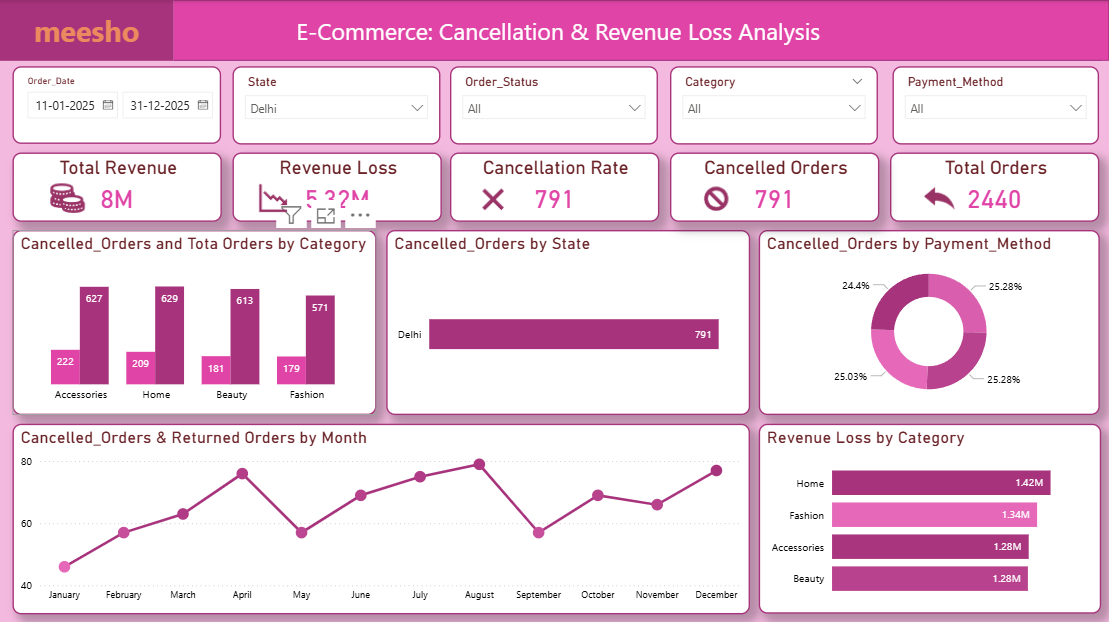

Layout of this report page (visuals, bound fields, positions):
{"tool":"powerbi","page":{"name":"Page 1","canvas":[1280,720],"ordinal":0},"visuals":[{"type":"card","title":"Total Revenue","fields":{"Values":["meesho.Total Revenue"]},"box":[15,176.2,241.2,80],"z":0},{"type":"card","title":"Revenue Loss","fields":{"Values":["meesho.Revenue Loss"]},"box":[268.8,176.2,241.2,80],"z":1000},{"type":"card","title":"Cancellation Rate","fields":{"Values":["meesho.Cancelled_Orders"]},"box":[520,176.2,241.2,80],"z":2000},{"type":"card","title":"Total Orders","fields":{"Values":["meesho.Tota Orders"]},"box":[1027.5,176.2,241.2,80],"z":3000},{"type":"slicer","fields":{"Values":["meesho.State"]},"box":[268.8,76.2,240,90],"z":4000},{"type":"slicer","fields":{"Values":["meesho.Order_Date"]},"box":[14.4,76.5,240.9,89.5],"z":5000},{"type":"slicer","fields":{"Values":["meesho.Order_Status"]},"box":[520,76.2,240,90],"z":6000},{"type":"slicer","fields":{"Values":["meesho.Payment_Method"]},"box":[1030,76.2,238.8,90],"z":7000},{"type":"clusteredColumnChart","fields":{"Category":["meesho.Category"],"Y":["meesho.Cancelled_Orders","meesho.Tota Orders"]},"box":[14.4,265.5,420,213.5],"z":8000},{"type":"clusteredBarChart","fields":{"Category":["meesho.State"],"Y":["meesho.Cancelled_Orders"]},"box":[445.2,265.4,419.8,213.5],"z":9000},{"type":"lineChart","title":"Cancelled_Orders & Returned Orders by Month","fields":{"Category":["meesho.Order_Date.Variation.Date Hierarchy.Month"],"Y":["meesho.Cancelled_Orders","meesho.Returned Orders"]},"box":[13.8,488.8,851.2,220],"z":10000},{"type":"donutChart","fields":{"Category":["meesho.Payment_Method"],"Y":["meesho.Cancelled_Orders"]},"box":[875.9,265.4,393.3,213.5],"z":11000},{"type":"clusteredBarChart","fields":{"Category":["meesho.Category"],"Y":["meesho.Revenue Loss"]},"box":[875.8,489.1,395.3,219.3],"z":12000},{"type":"card","title":"Cancelled Orders","fields":{"Values":["meesho.Cancelled_Orders"]},"box":[773.8,176.2,241.2,80],"z":13000},{"type":"slicer","fields":{"Values":["meesho.Category"]},"box":[773.8,76.2,240,90],"z":14000},{"type":"shape","box":[0,0,1271.2,70],"z":15000},{"type":"shape","box":[8.8,0,1271.2,70],"z":16000},{"type":"shape","box":[0,0,200,70],"z":17000},{"type":"actionButton","box":[50.5,202,64.9,53.4],"z":18000},{"type":"actionButton","box":[1059,202,50.5,53.4],"z":19000},{"type":"actionButton","box":[548.2,209.2,49.1,41.8],"z":20000},{"type":"actionButton","box":[288.6,202,99.6,53.4],"z":21000},{"type":"actionButton","box":[805.1,207.8,46.2,43.3],"z":22000}]}

Visuals, with their boxes in screenshot pixels (x1, y1, x2, y2), scaled from the page's 1280x720 canvas onto the 1109x622 screenshot:
"Total Revenue" card: x1=13 y1=152 x2=222 y2=221
"Revenue Loss" card: x1=233 y1=152 x2=442 y2=221
"Cancellation Rate" card: x1=451 y1=152 x2=660 y2=221
"Total Orders" card: x1=890 y1=152 x2=1099 y2=221
slicer - meesho.State: x1=233 y1=66 x2=441 y2=144
slicer - meesho.Order_Date: x1=12 y1=66 x2=221 y2=143
slicer - meesho.Order_Status: x1=451 y1=66 x2=658 y2=144
slicer - meesho.Payment_Method: x1=892 y1=66 x2=1099 y2=144
clusteredColumnChart - meesho.Category x meesho.Cancelled_Orders: x1=12 y1=229 x2=376 y2=414
clusteredBarChart - meesho.State x meesho.Cancelled_Orders: x1=386 y1=229 x2=749 y2=414
"Cancelled_Orders & Returned Orders by Month" lineChart: x1=12 y1=422 x2=749 y2=612
donutChart - meesho.Payment_Method x meesho.Cancelled_Orders: x1=759 y1=229 x2=1100 y2=414
clusteredBarChart - meesho.Category x meesho.Revenue Loss: x1=759 y1=423 x2=1101 y2=612
"Cancelled Orders" card: x1=670 y1=152 x2=879 y2=221
slicer - meesho.Category: x1=670 y1=66 x2=878 y2=144
shape: x1=0 y1=0 x2=1101 y2=60
shape: x1=8 y1=0 x2=1108 y2=60
shape: x1=0 y1=0 x2=173 y2=60
actionButton: x1=44 y1=175 x2=100 y2=221
actionButton: x1=918 y1=175 x2=961 y2=221
actionButton: x1=475 y1=181 x2=518 y2=217
actionButton: x1=250 y1=175 x2=336 y2=221
actionButton: x1=698 y1=180 x2=738 y2=217
